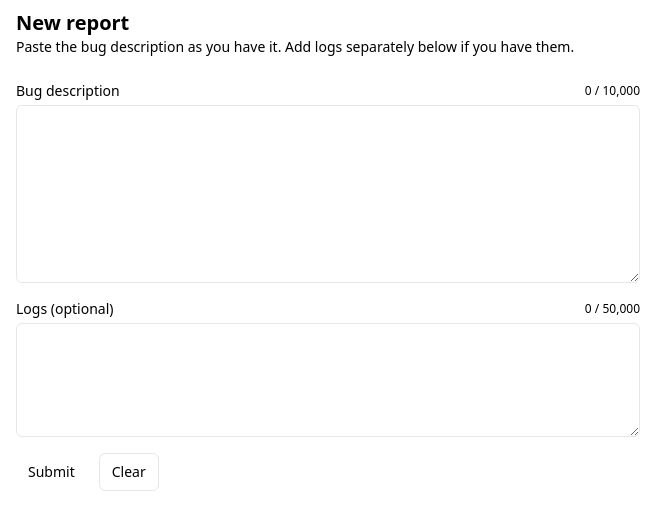
NewReport › shows an inline error and does not submit when the text is too short
Type "too short" into the text box labelled "Bug description" at (328, 194), box top-left (16, 105), bottom-right (640, 283)
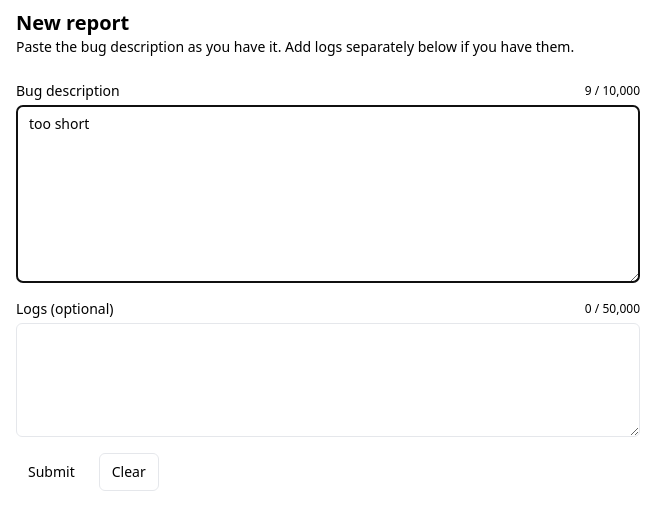
Click the button "Submit" at (51, 472), box top-left (16, 453), bottom-right (87, 491)
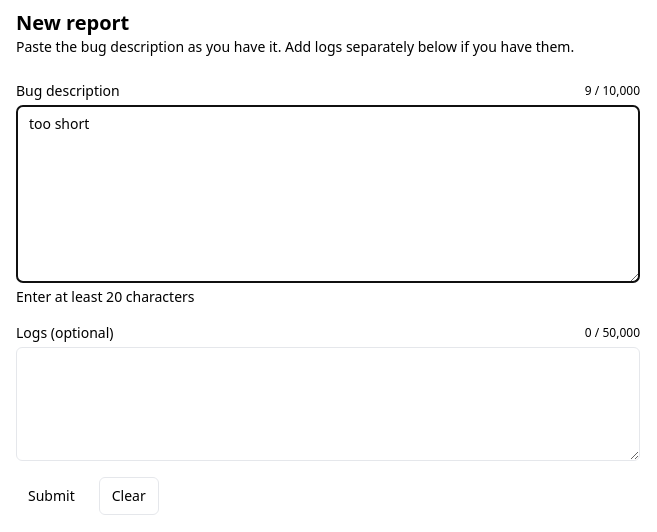
Expected: the text "Enter at least 20 characters" is shown, top-left (16, 287), bottom-right (194, 306)
